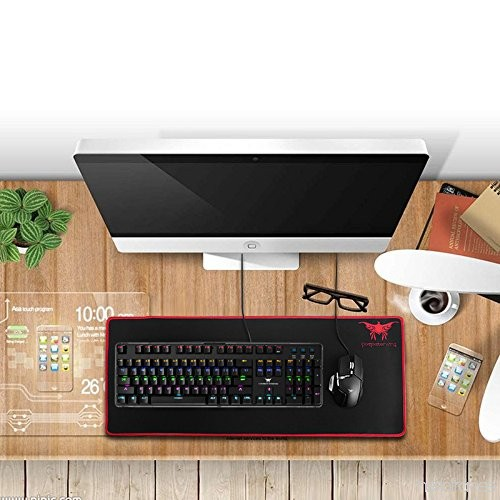Teclado: (110, 338, 328, 412)
